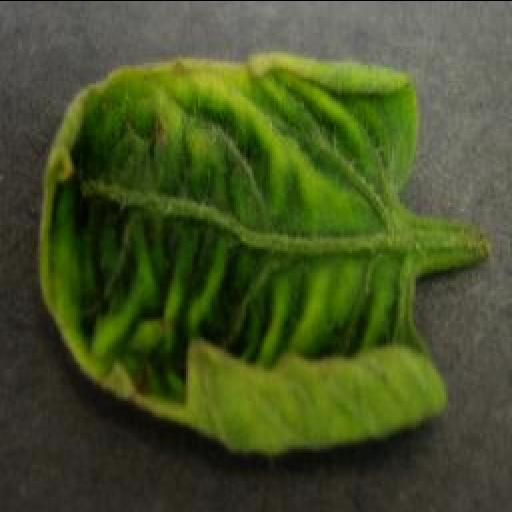disease_tomato: (34, 52, 452, 454)
